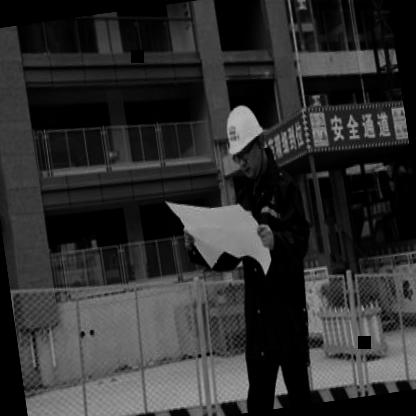helmet: (219, 94, 276, 186)
